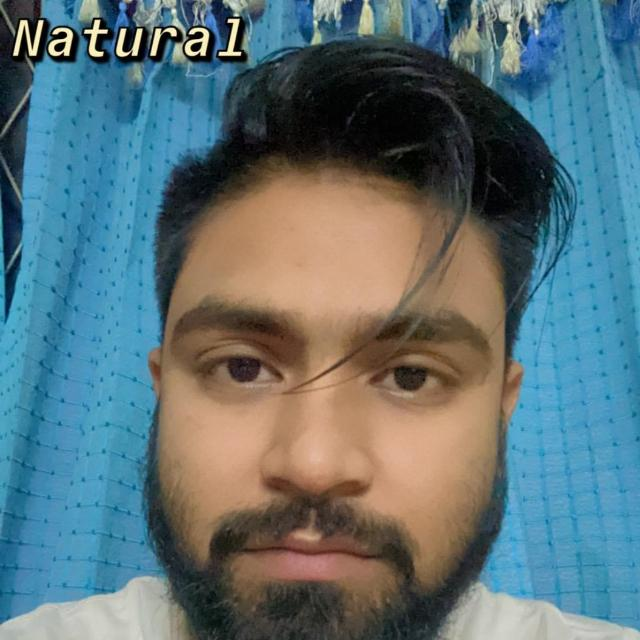Natural: (41, 94, 640, 640)
